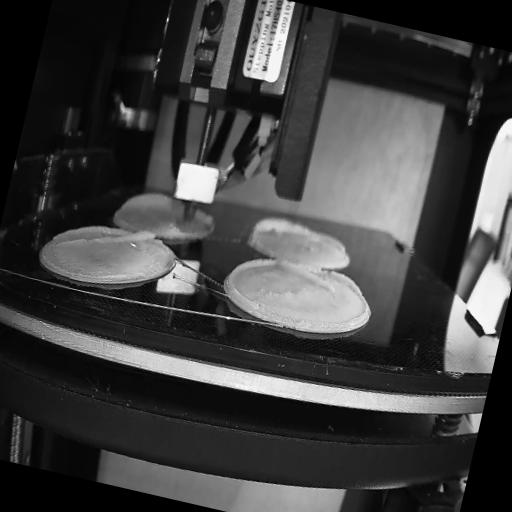over_extrusion: (58, 208, 158, 268), (275, 258, 366, 302), (222, 251, 276, 310), (247, 211, 312, 254), (120, 188, 184, 224), (316, 230, 352, 258), (193, 209, 217, 227)
